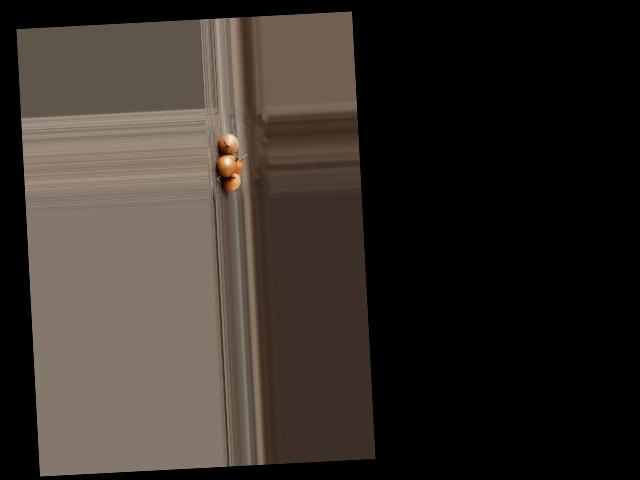onion: (228, 156, 243, 176)
